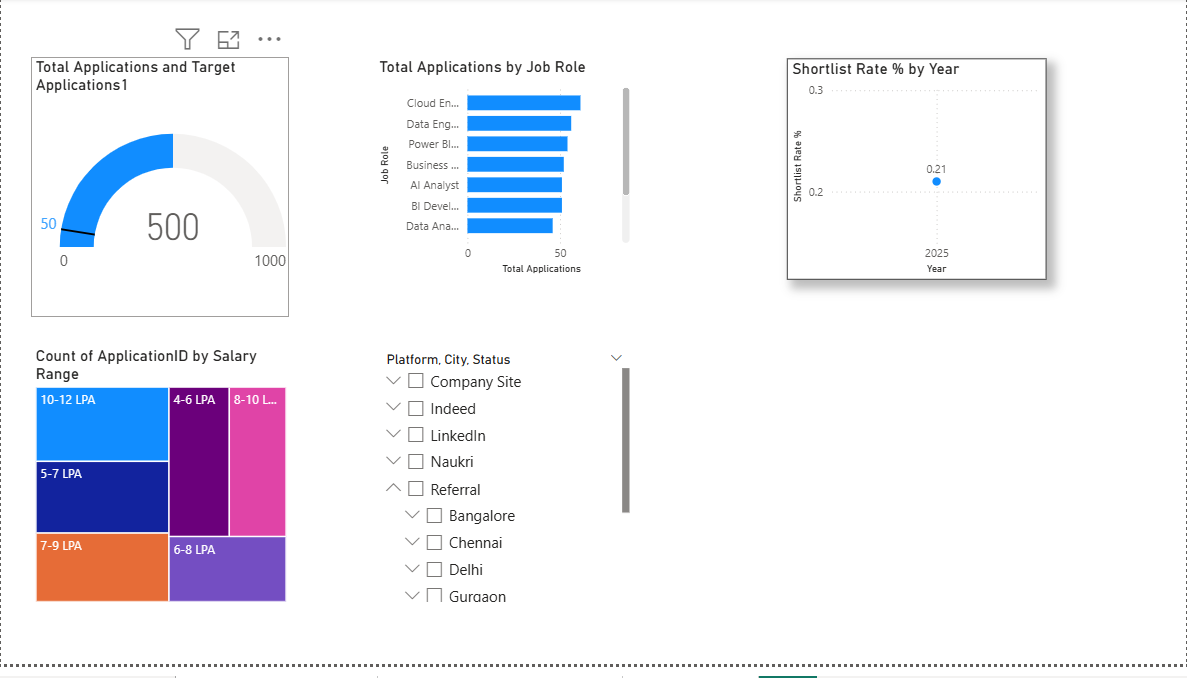

The page's visual inventory and layout, read from the dashboard file:
{"tool":"powerbi","page":{"name":"Job Applications 2025.","canvas":[1280,720],"ordinal":1},"visuals":[{"type":"gauge","fields":{"Y":["Jobs.Total Applications"],"TargetValue":["Jobs.Target Applications1"]},"box":[31.7,65,280,280],"z":0},{"type":"clusteredBarChart","fields":{"Category":["Jobs.Job Role"],"Y":["Jobs.Total Applications"]},"box":[403.3,65,280,238.3],"z":1000},{"type":"lineChart","fields":{"Category":["Jobs.Date.Variation.Date Hierarchy.Year","Jobs.Date.Variation.Date Hierarchy.Quarter","Jobs.Date.Variation.Date Hierarchy.Month","Jobs.Date.Variation.Date Hierarchy.Day"],"Y":["Jobs.Shortlist Rate %"]},"box":[848.3,66.7,280,238.3],"z":2000},{"type":"treemap","fields":{"Group":["Jobs.Salary Range"],"Values":["CountNonNull(Jobs.ApplicationID)"]},"box":[31.7,376.7,280,280],"z":3000},{"type":"slicer","fields":{"Values":["Jobs.Platform","Jobs.City","Jobs.Status"]},"box":[403,377,280,280],"z":4000}]}

Visuals, with their boxes in screenshot pixels (x1, y1, x2, y2), scaled from the page's 1280x720 canvas onto the 1187x678 screenshot:
gauge - Jobs.Total Applications x Jobs.Target Applications1: pyautogui.locateOnScreen(29, 61, 289, 325)
clusteredBarChart - Jobs.Job Role x Jobs.Total Applications: pyautogui.locateOnScreen(374, 61, 634, 286)
lineChart - Jobs.Date.Variation.Date Hierarchy.Year x Jobs.Date.Variation.Date Hierarchy.Quarter: pyautogui.locateOnScreen(787, 63, 1046, 287)
treemap - Jobs.Salary Range x CountNonNull(Jobs.ApplicationID): pyautogui.locateOnScreen(29, 355, 289, 618)
slicer - Jobs.Platform x Jobs.City: pyautogui.locateOnScreen(374, 355, 633, 619)
